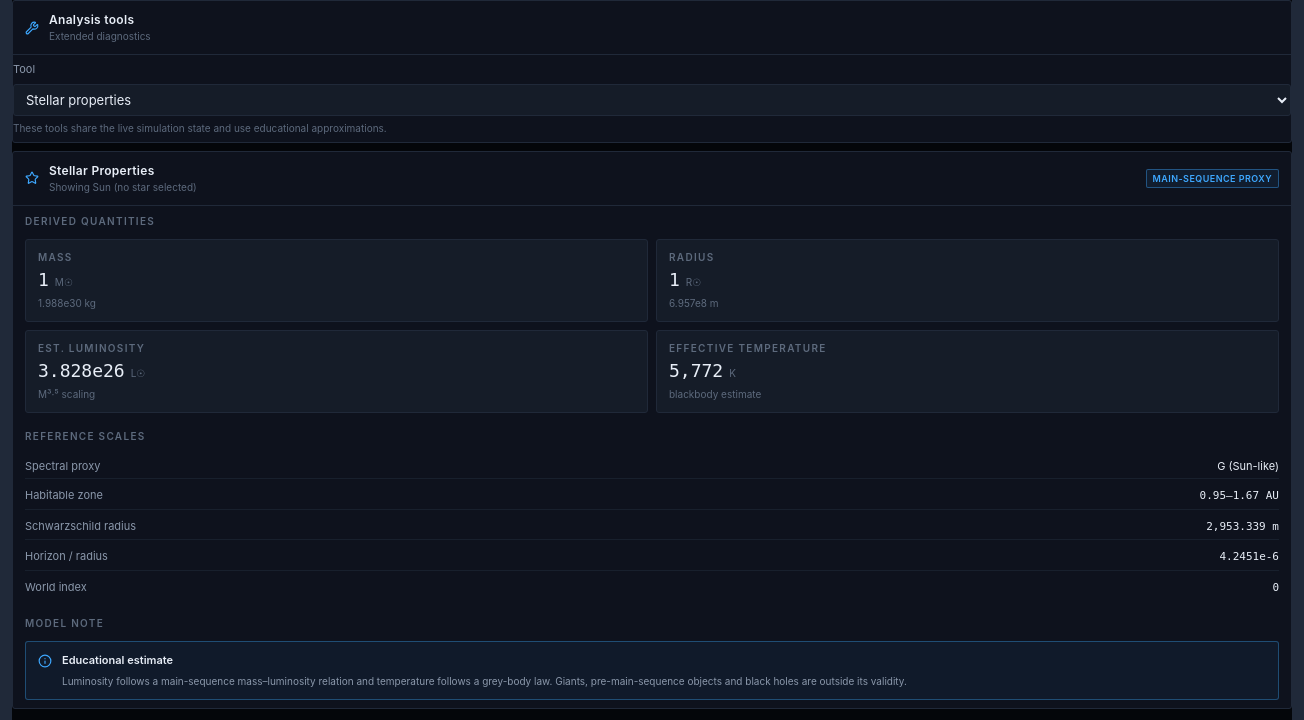
Scenario: extended tool integration › lets the user switch between analysis tools
Expected: the text "Stellar Properties" is shown, left=49, top=163, right=155, bottom=178
Select "Physical constants" in the dropdown labelled "Tool" at [652, 100], box left=13, top=84, right=1291, bottom=116
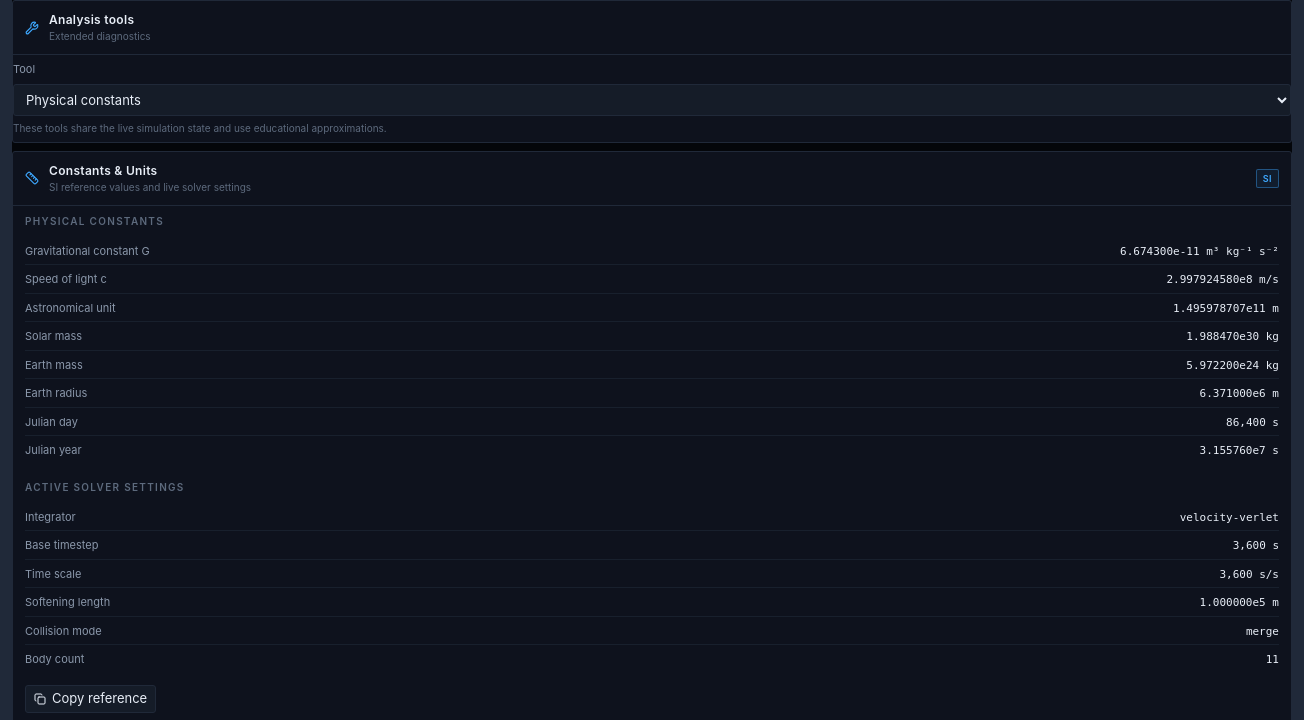
Expected: the text "Constants & Units" is shown, left=49, top=163, right=158, bottom=178
